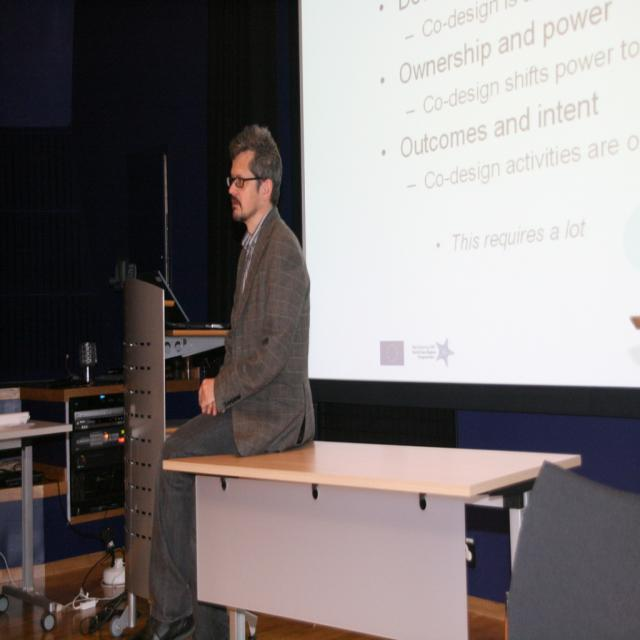desk: (172, 419, 603, 624)
person: (140, 128, 314, 636)
tv: (297, 0, 639, 433)
